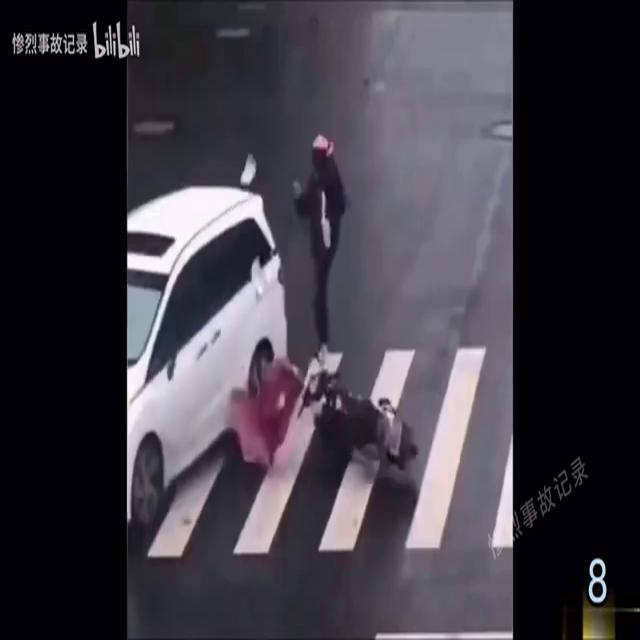multiple_accident: (97, 110, 467, 535)
